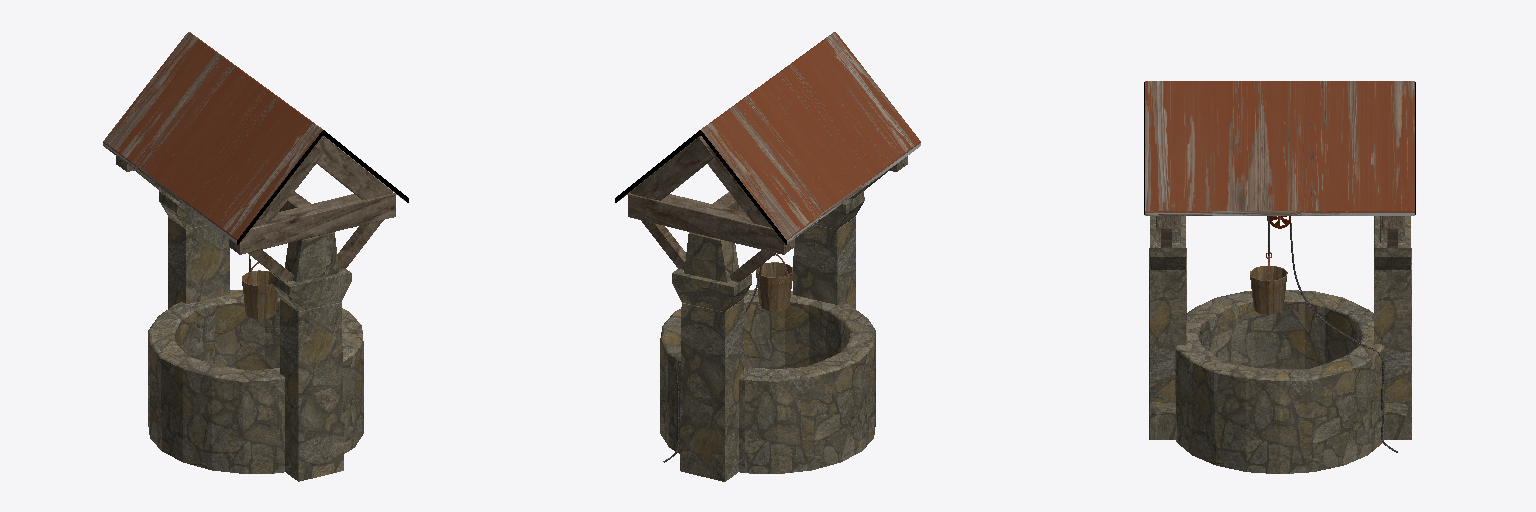
The picture shows the model from 3 angles: view 1: azimuth 30°, elevation 25°; view 2: azimuth 150°, elevation 25°; view 3: azimuth 270°, elevation 25°; orthographic projection.
Parts seen in each view (by area): view 1: roof, well_wall, right_main_beam, left_main_beam, roof_support_section polySurface7, roof_support_section polySurface20, bucket bucket_shell, polySurface5 roof_support_section, roof_support_section polySurface17, roof_support_section polySurface18; view 2: roof, well_wall, left_main_beam, right_main_beam, roof_support_section polySurface19, roof_support_section polySurface21, bucket bucket_shell, roof_support_section polySurface22, roof_support_section polySurface16, roof_support_section polySurface12; view 3: roof, well_wall, left_main_beam, right_main_beam, bucket bucket_shell, rope rope_bucket_link.
Boxes of the visible parts, box(x1,y1,x2,y2) form: roof: box(103, 32, 408, 244); well_wall: box(148, 290, 363, 473); right_main_beam: box(271, 232, 351, 481); left_main_beam: box(159, 191, 229, 308); roof_support_section polySurface7: box(229, 193, 395, 254); roof_support_section polySurface20: box(315, 136, 392, 199); bucket bucket_shell: box(242, 270, 277, 319); polySurface5 roof_support_section: box(253, 145, 323, 226); roof_support_section polySurface17: box(337, 220, 383, 269); roof_support_section polySurface18: box(248, 250, 293, 281); roof: box(615, 32, 920, 244); well_wall: box(660, 289, 875, 473); left_main_beam: box(672, 232, 751, 481); right_main_beam: box(793, 191, 864, 308); roof_support_section polySurface19: box(628, 193, 794, 254); roof_support_section polySurface21: box(630, 136, 713, 200); bucket bucket_shell: box(756, 262, 792, 310); roof_support_section polySurface22: box(707, 145, 771, 227); roof_support_section polySurface16: box(641, 220, 685, 269); roof_support_section polySurface12: box(730, 250, 775, 281); roof: box(1144, 81, 1415, 215); well_wall: box(1175, 290, 1384, 473); left_main_beam: box(1374, 216, 1411, 439); right_main_beam: box(1149, 216, 1186, 439); bucket bucket_shell: box(1250, 266, 1287, 314); rope rope_bucket_link: box(1267, 216, 1397, 452).
Bounding box in the file's own units: 11.64 × 20.74 × 14.54.
12 materials, 12 textured.